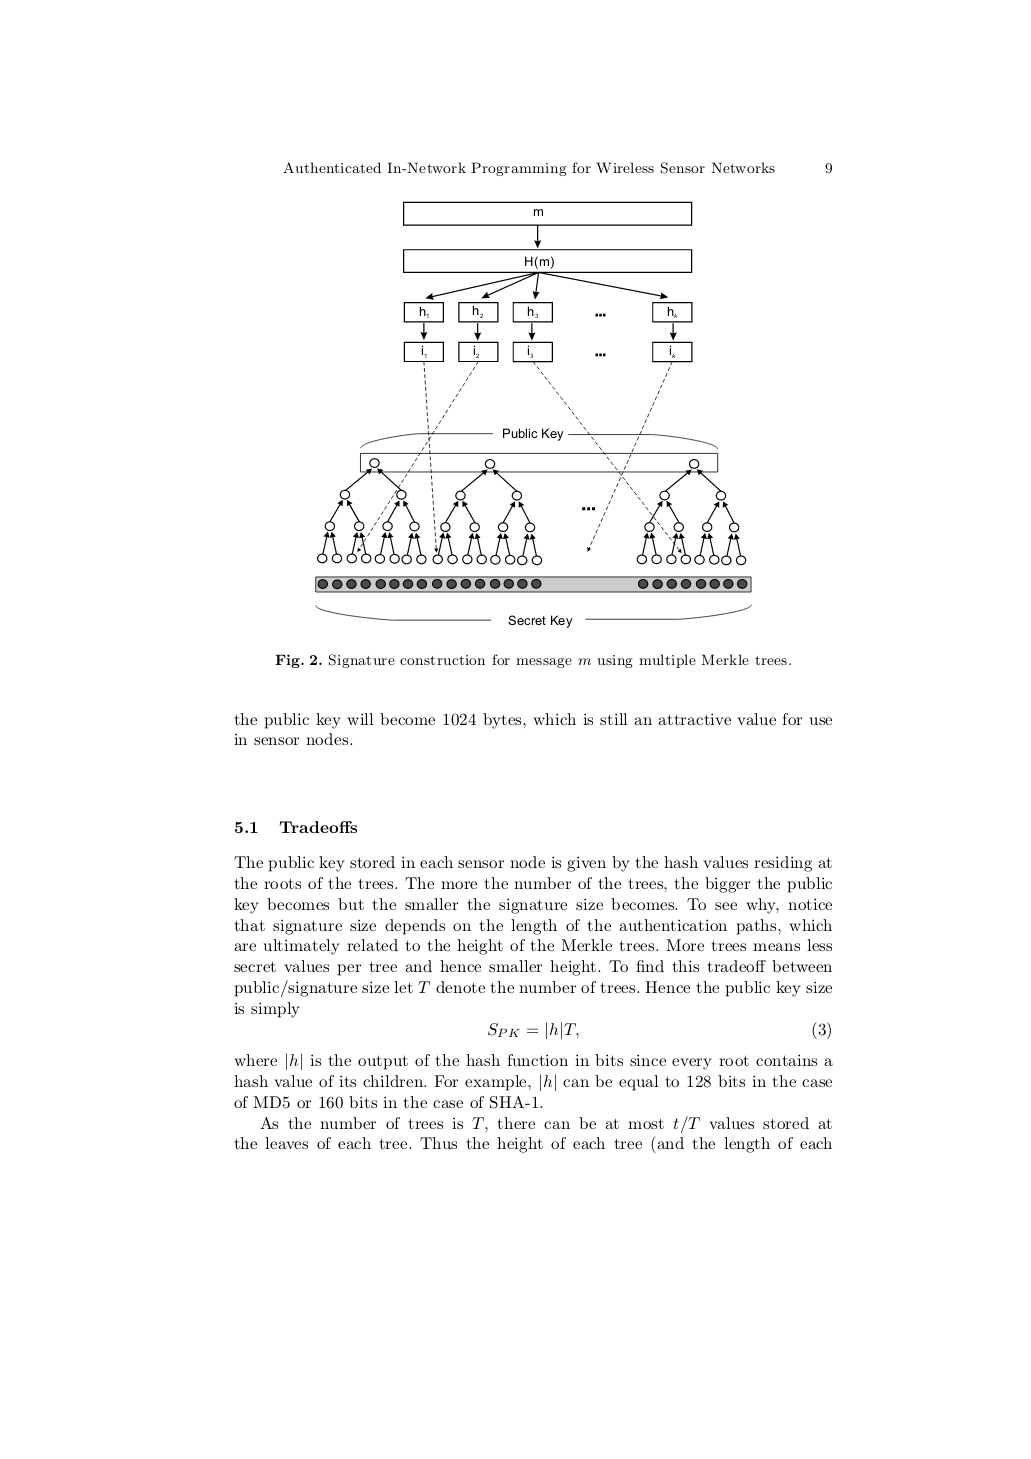figure: (315, 201, 751, 627)
formula: (488, 1021, 830, 1040)
